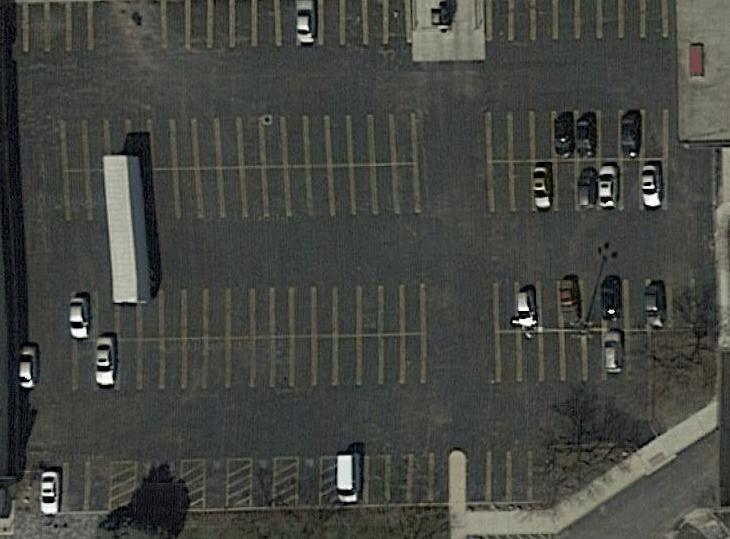parkingspot: (59, 108, 419, 174), (69, 280, 428, 345), (0, 0, 414, 56), (69, 331, 429, 393), (146, 163, 421, 224), (491, 273, 723, 335), (485, 156, 670, 216), (494, 328, 676, 386), (484, 106, 667, 162), (484, 1, 680, 46), (337, 451, 452, 509), (462, 446, 557, 506), (36, 458, 113, 516), (132, 458, 185, 513), (63, 169, 109, 224), (202, 456, 231, 513), (248, 454, 277, 511), (295, 453, 324, 510)
